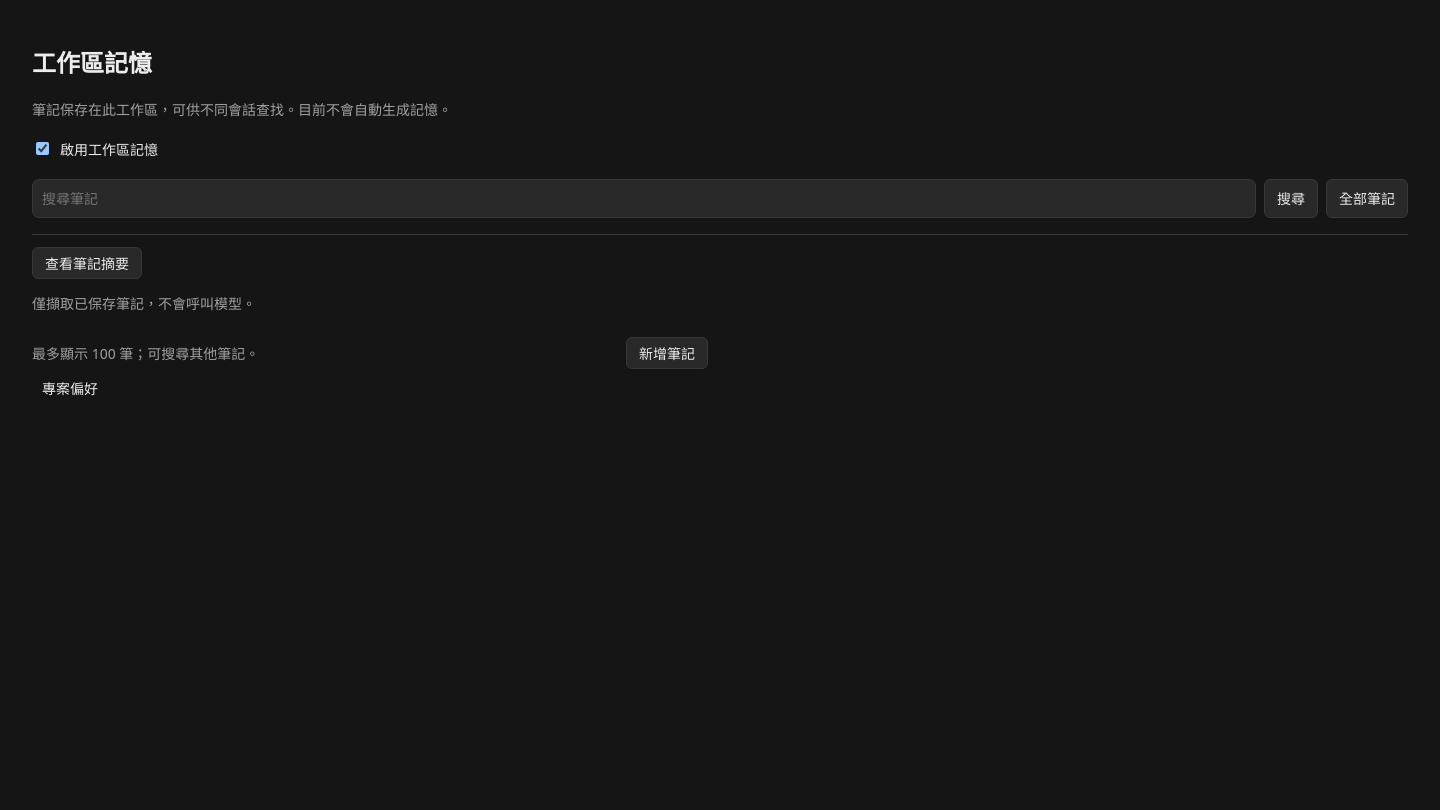
Scenario: workspace memory › shows failures without clearing an unsaved note
The width and height of the screenshot is (1440, 810).
Check: the button "專案偏好" is shown, box [32,369,708,407]
Step 1. Click the button "新增筆記" → [667, 353], box [626,337,708,369]
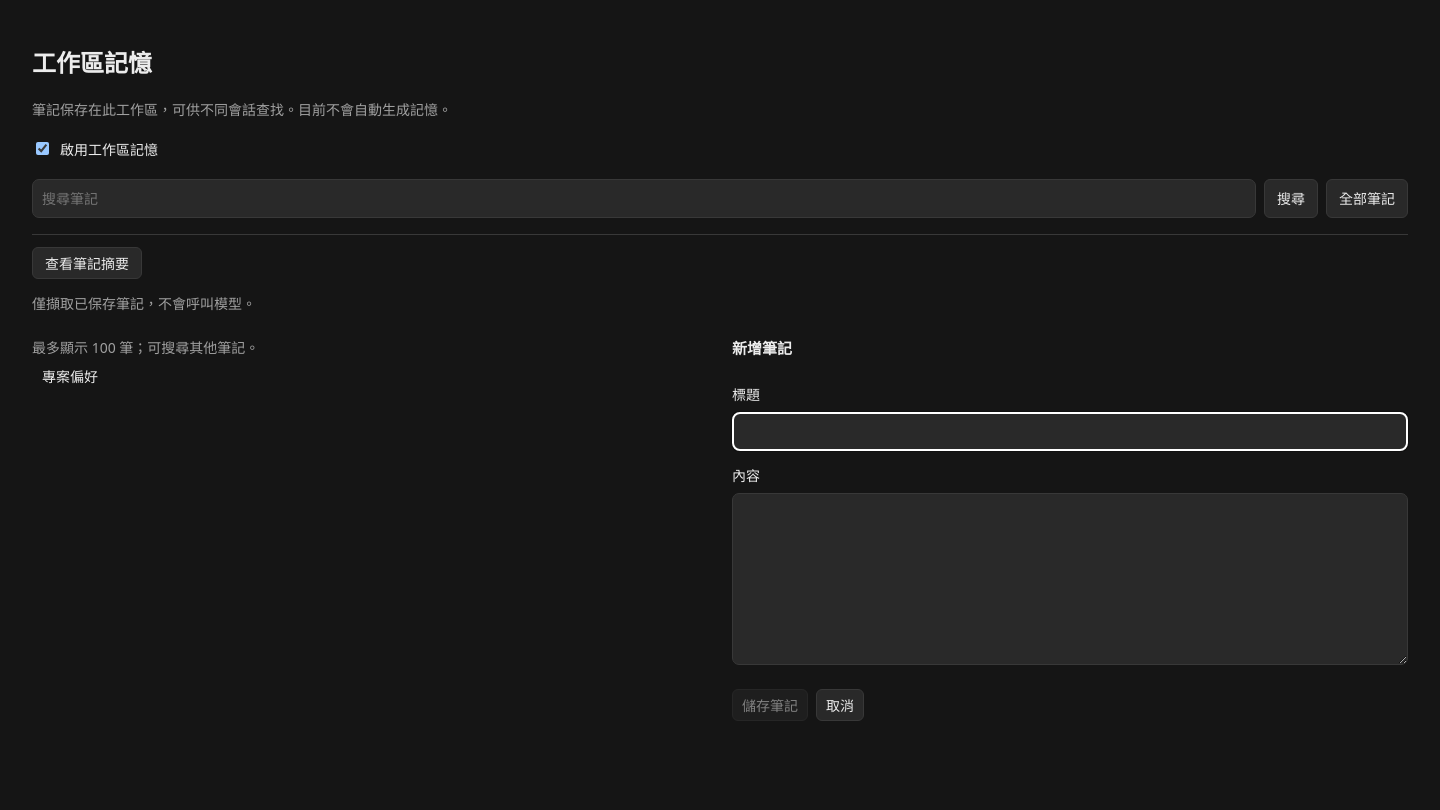
Step 2. Type "保留" into the field labelled "標題" → [1070, 432], box [732,412,1408,451]
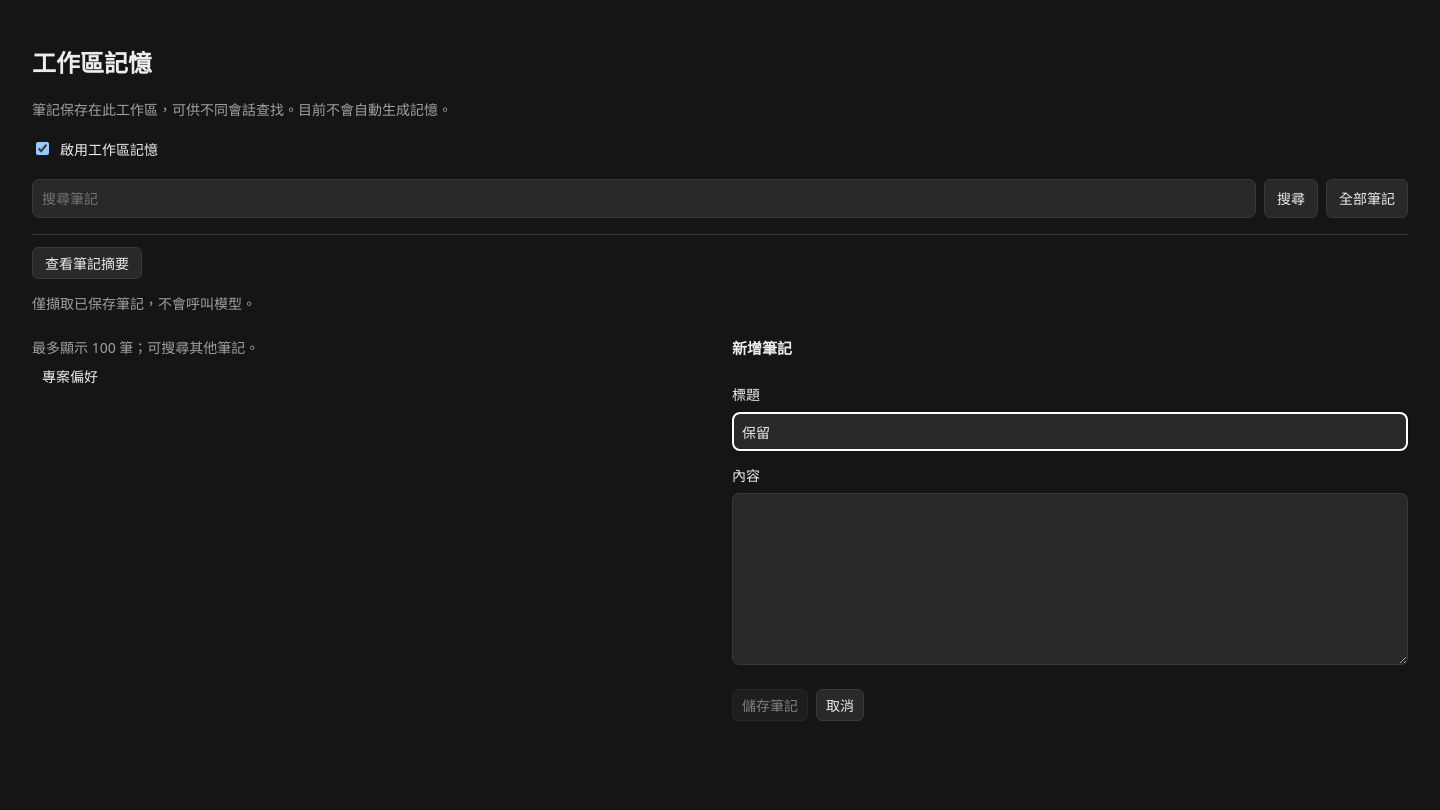
Step 3. Type "不可遺失" into the text box labelled "內容" → [1070, 579], box [732,493,1408,665]
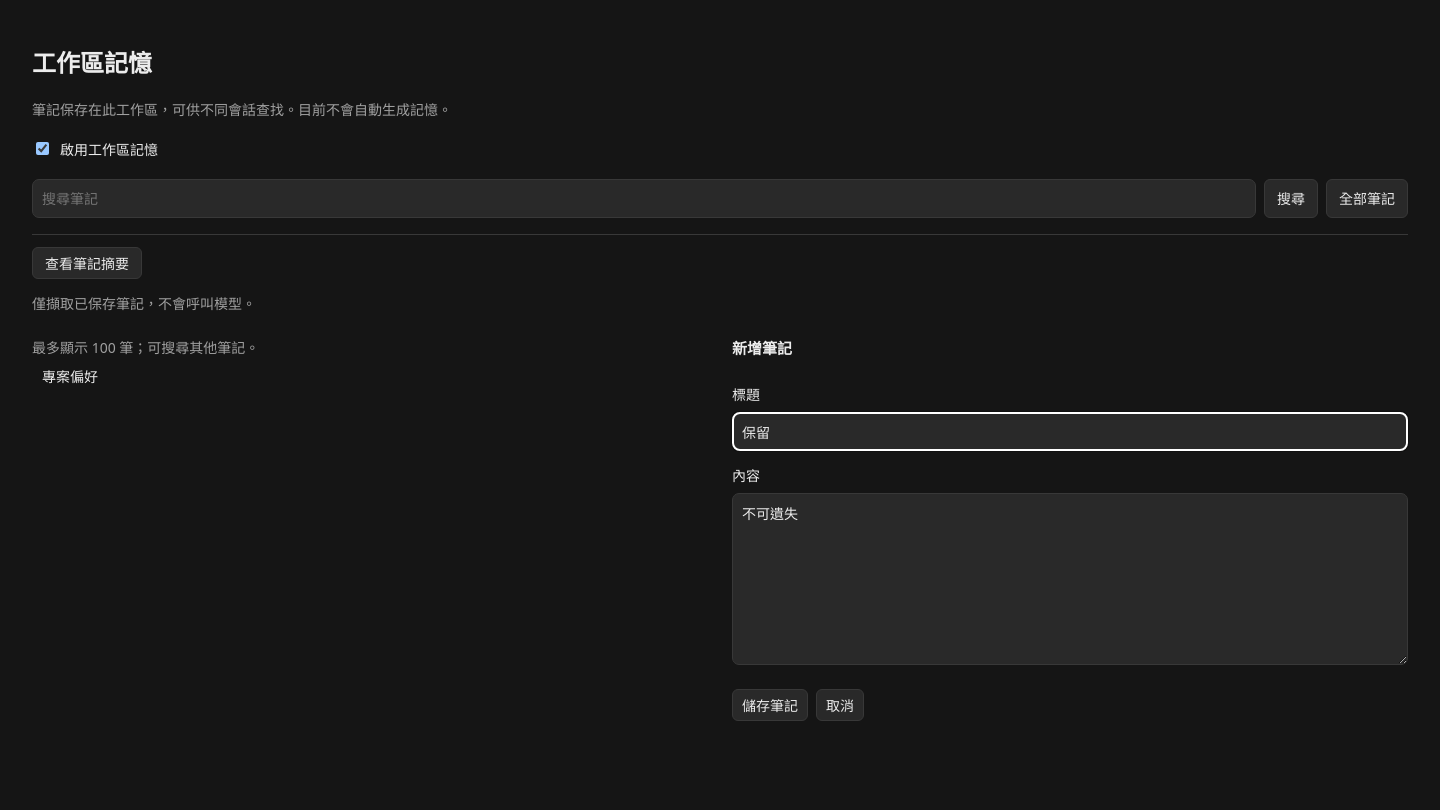
Step 4. Click the button "儲存筆記" → [770, 705], box [732,689,808,721]
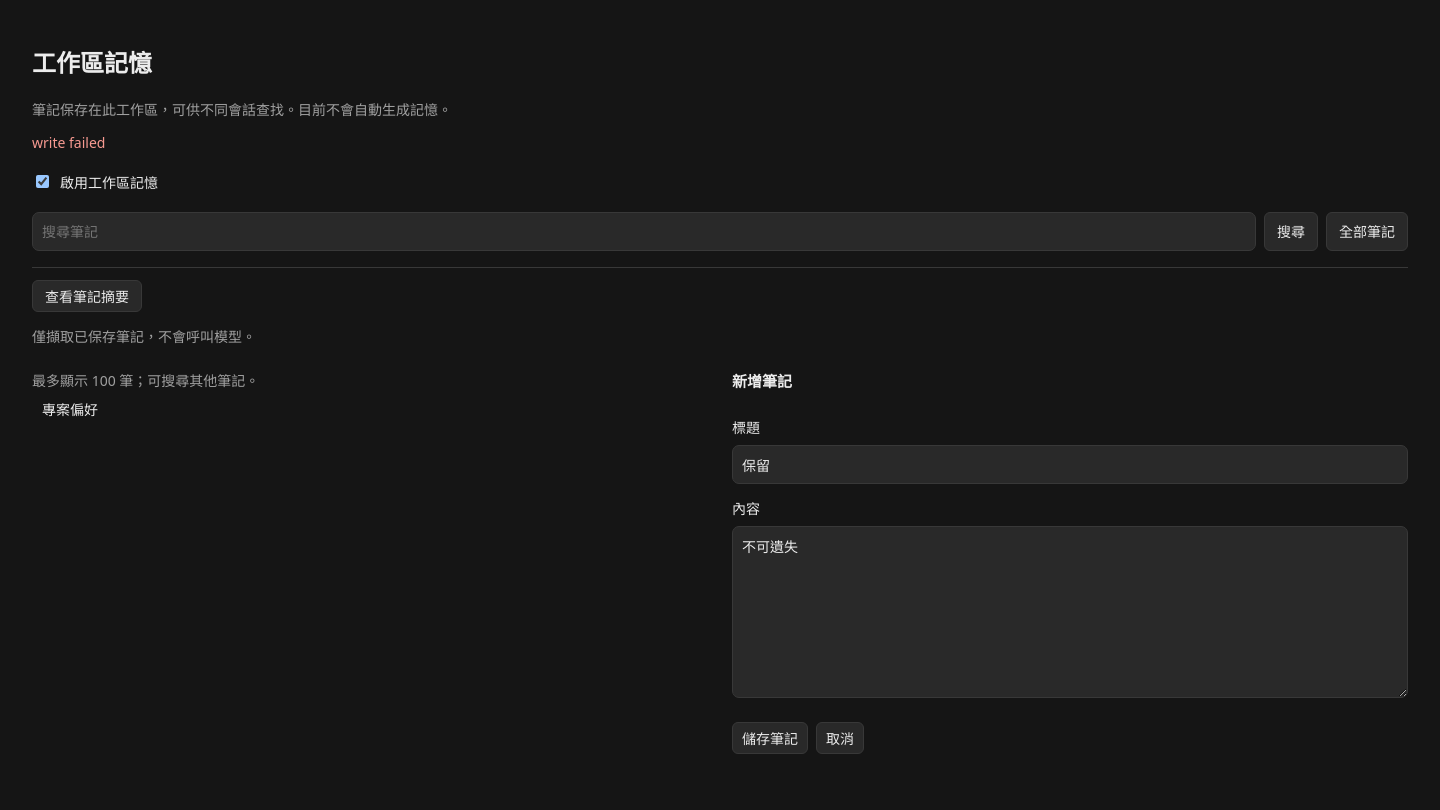
Check: the message "write failed" is shown, box [32,133,105,152]
